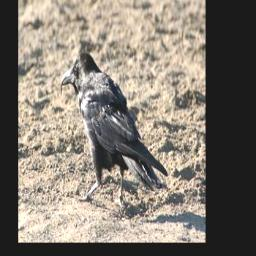Crow: (60, 49, 170, 215)
